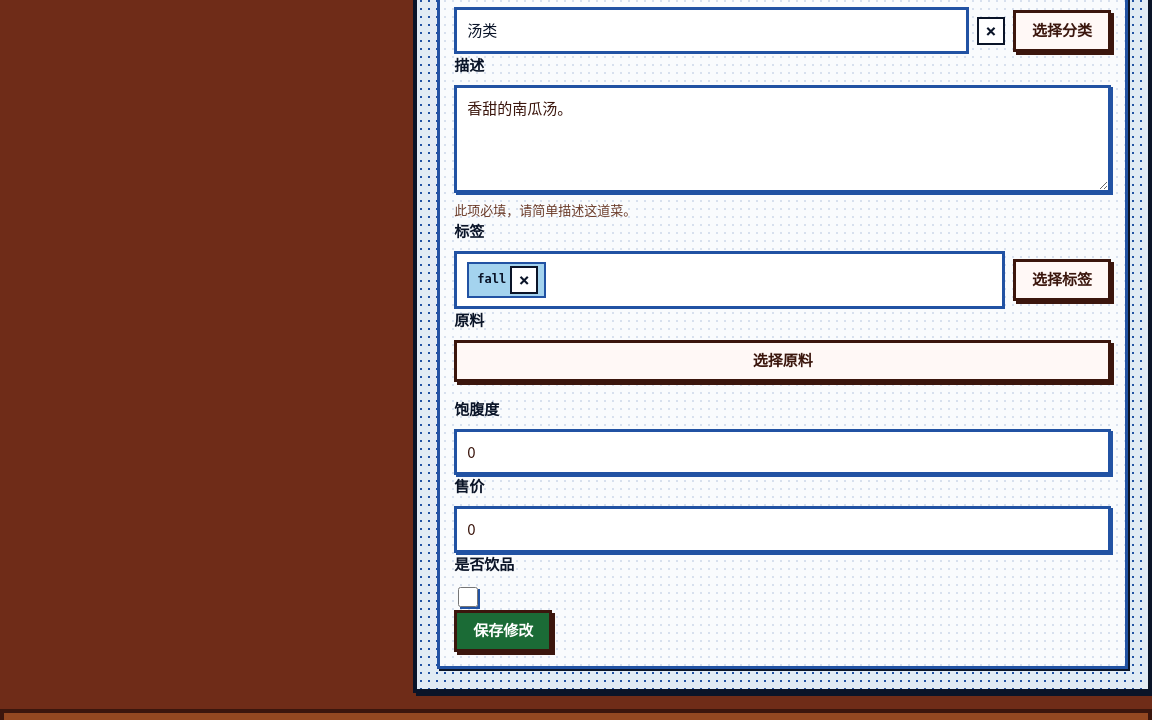
Test: blueprint editor › selects ingredients from the ingredient picker modal
(page scrolled)
Click the button "选择原料" at (783,361), box [454,340,1111,382]
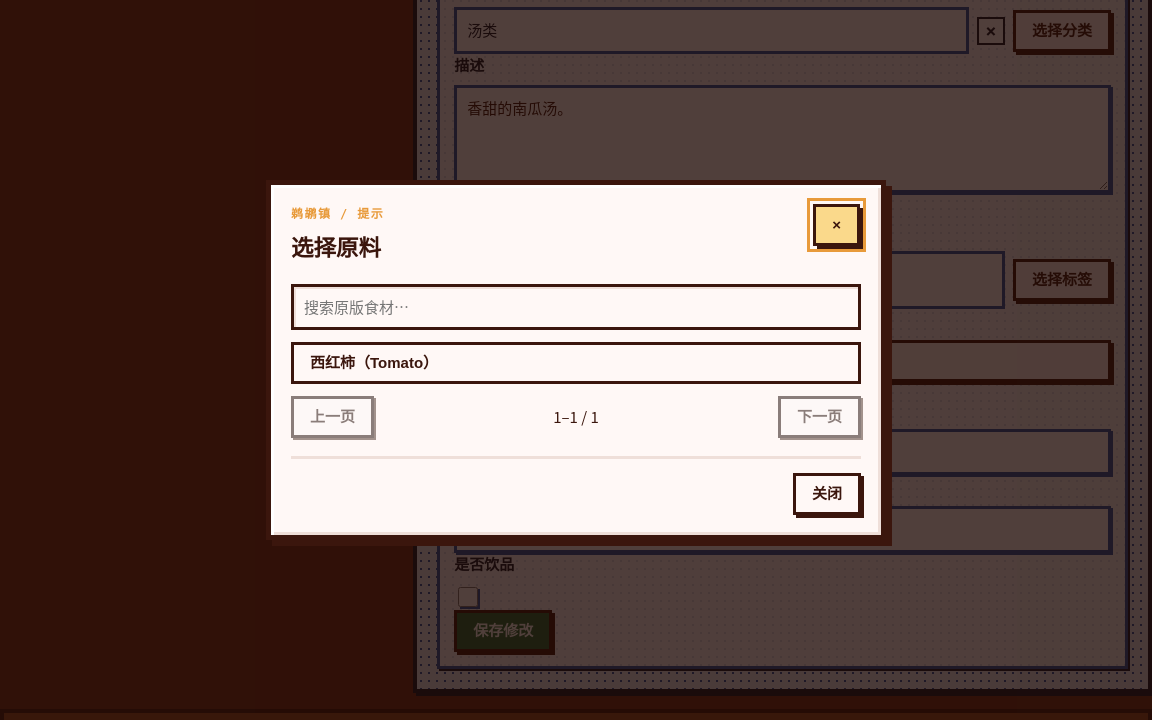
Click the button "西红柿（Tomato）" at (374,363), box [291,342,861,384]
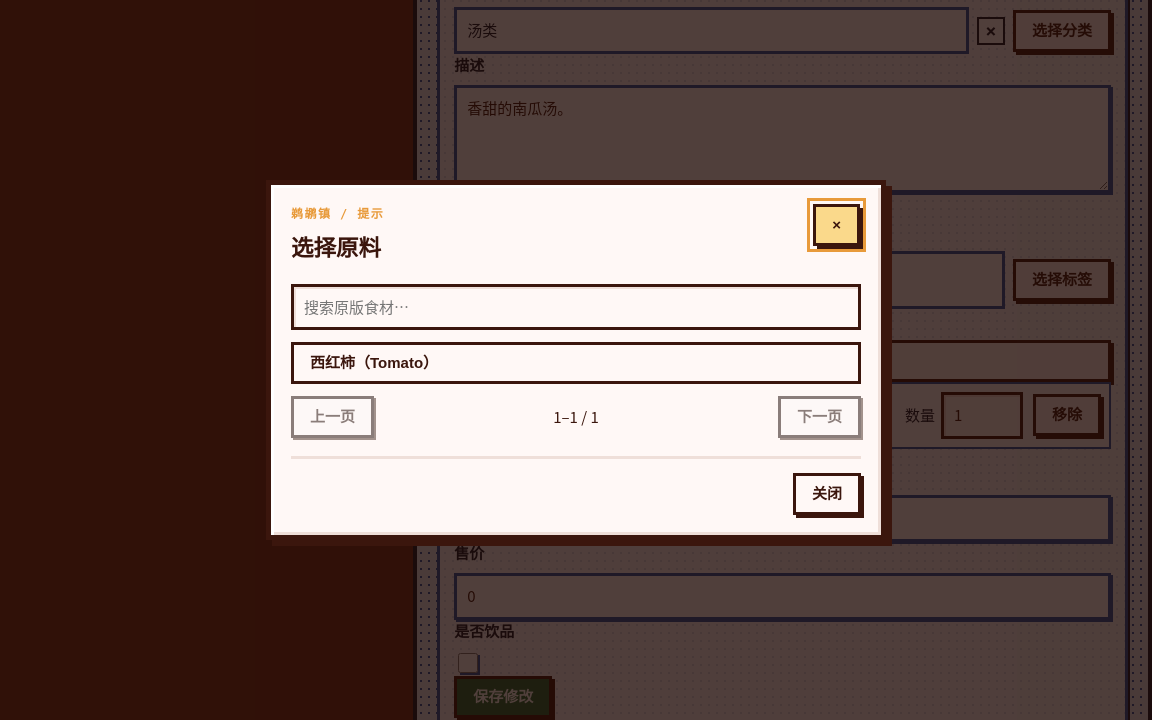
Now the list item "西红柿（256） 数量 移除" is shown, box [454,382,1111,449]
